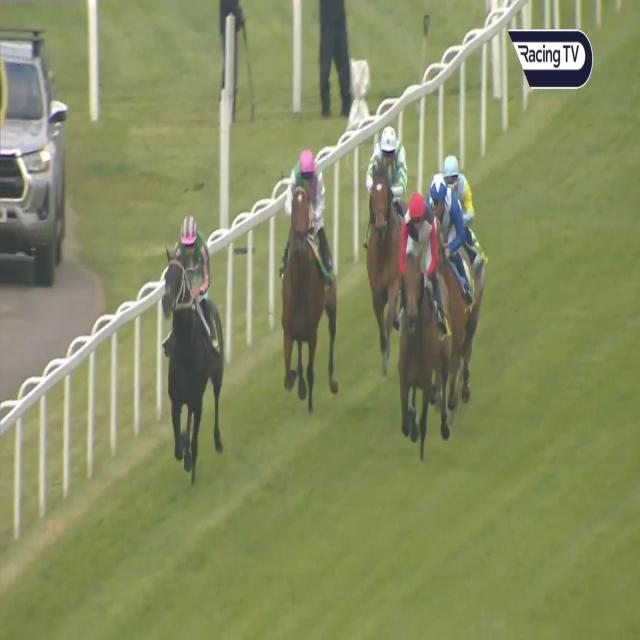horses-racing: (161, 209, 227, 459), (280, 145, 334, 407), (396, 193, 454, 427), (426, 175, 479, 378), (365, 124, 408, 351), (446, 156, 482, 402)
